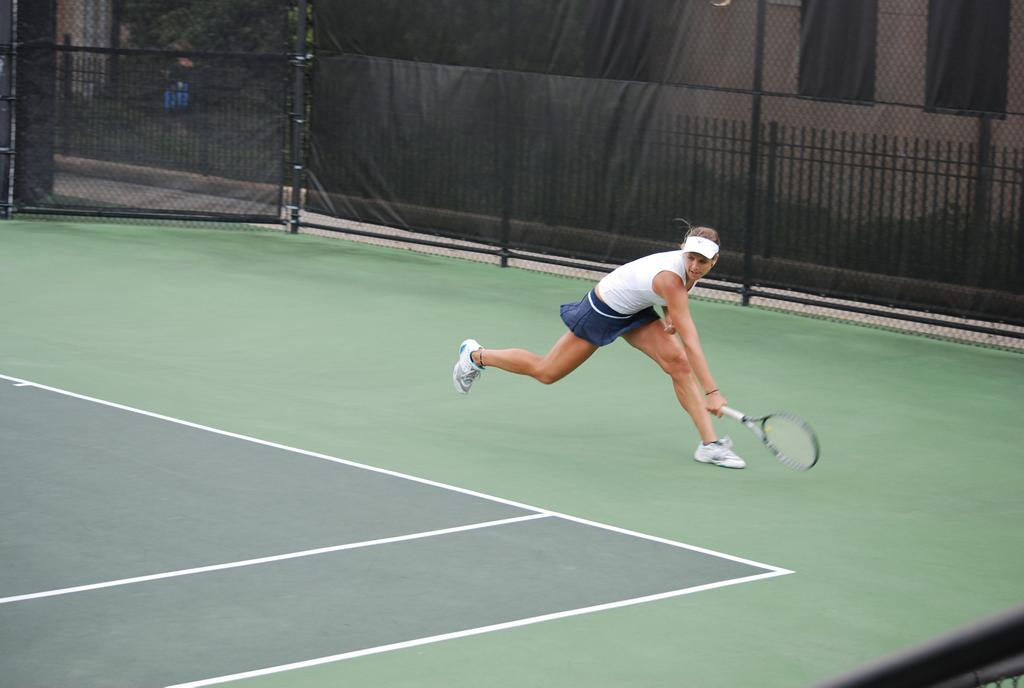face: (685, 248, 713, 280)
